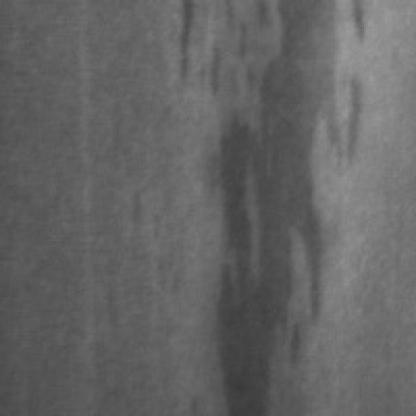inclusion: (210, 0, 372, 410), (173, 0, 206, 98)
